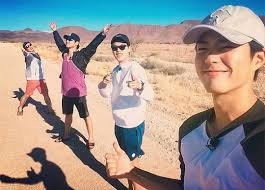people: (181, 5, 265, 190), (49, 23, 101, 147), (99, 37, 145, 168), (18, 41, 55, 115)
